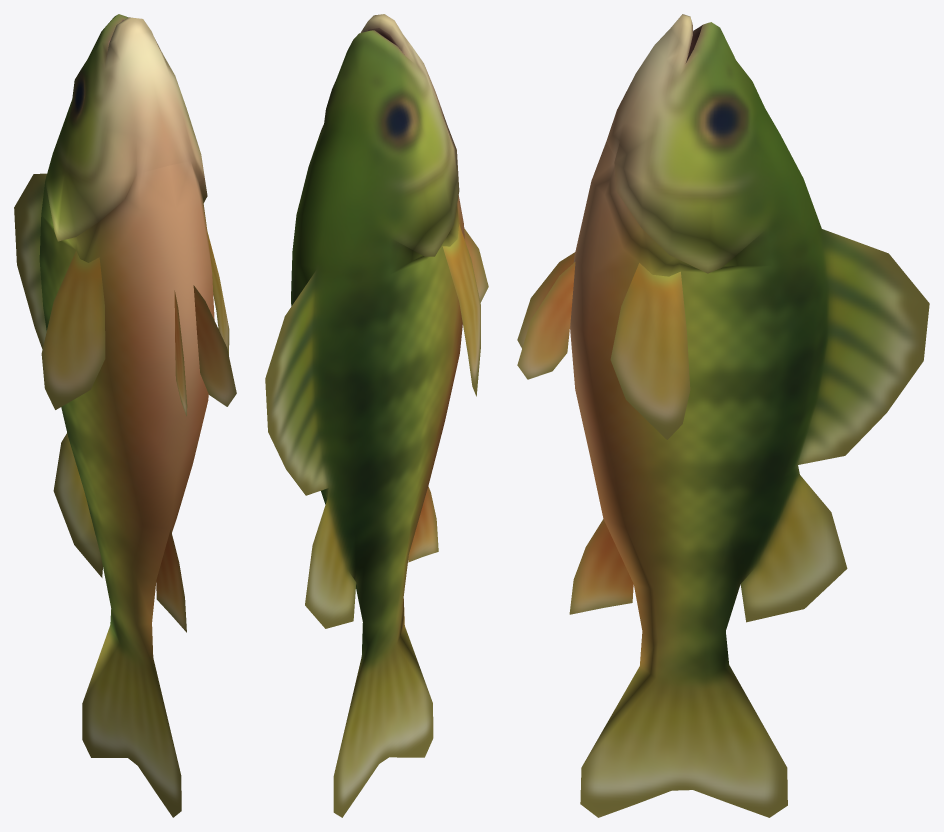
File: yellow-perch.glb
The picture shows the model from 3 angles, left to right: view 1: azimuth 30°, elevation 25°; view 2: azimuth 150°, elevation 25°; view 3: azimuth 270°, elevation 25°; orthographic projection. The views are drawn at different scales.
Parts seen in each view (by area): view 1: FishYellowparch__mYellowparch; view 2: FishYellowparch__mYellowparch; view 3: FishYellowparch__mYellowparch.
Boxes of the visible parts, left/top/right/bottom form: FishYellowparch__mYellowparch: left=14, top=14, right=236, bottom=817; FishYellowparch__mYellowparch: left=265, top=14, right=488, bottom=817; FishYellowparch__mYellowparch: left=517, top=14, right=929, bottom=817.
Bounding box in the file's own units: 0.1338 × 0.5608 × 0.2612.
Materials: 1 (1 with a texture image).
